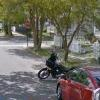Motorcycle: (33, 46, 87, 83)
